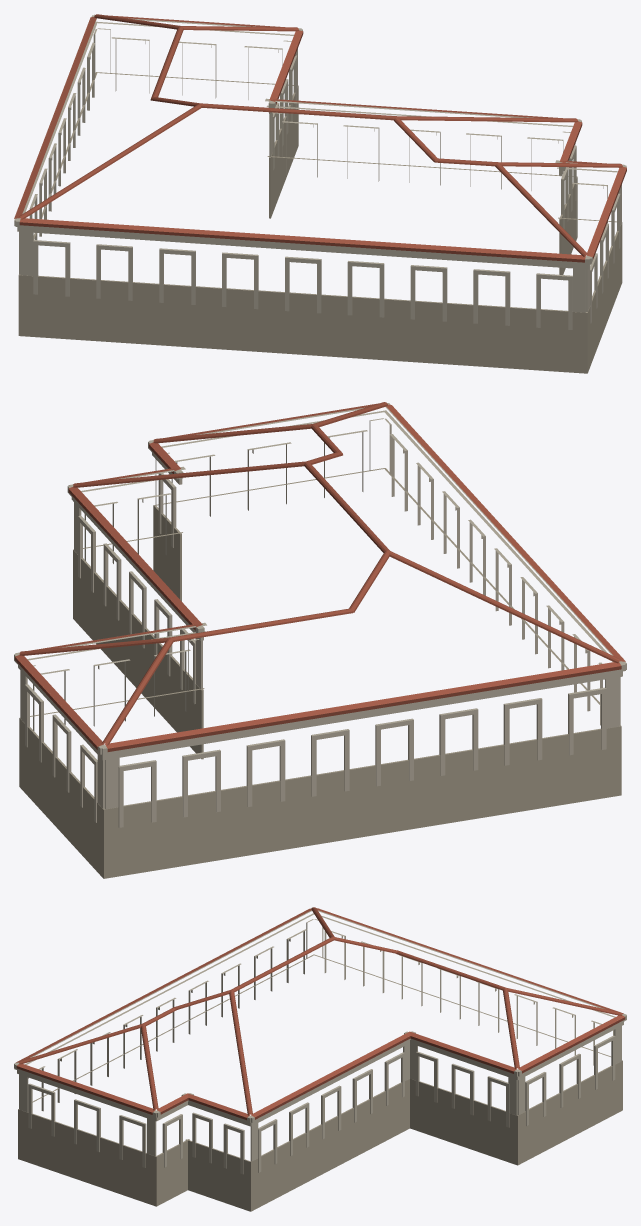
The picture shows the model from 3 angles, top to bottom: view 1: azimuth 30°, elevation 25°; view 2: azimuth 150°, elevation 25°; view 3: azimuth 270°, elevation 25°; orthographic projection. The views are drawn at different scales.
Parts seen in each view (by area): view 1: detail; view 2: detail; view 3: detail.
Part boxes in pixels (x1,y1,x2,y2): detail: (14,14,626,373); detail: (14,402,626,878); detail: (14,907,626,1211).
Bounding box in the file's own units: 28.05 × 8.97 × 34.43.
